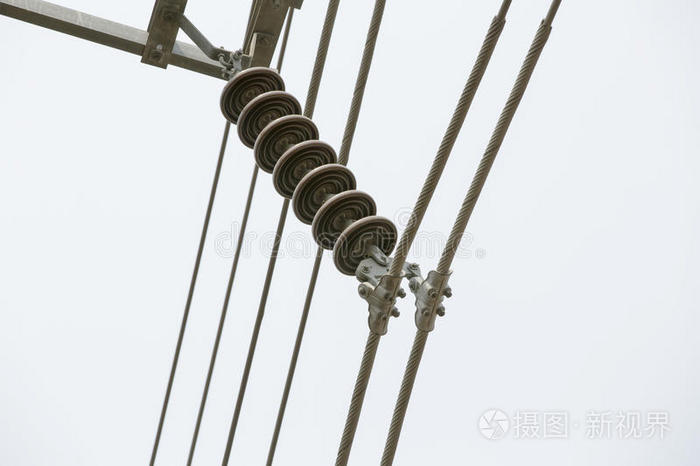insulator: (221, 67, 396, 272)
